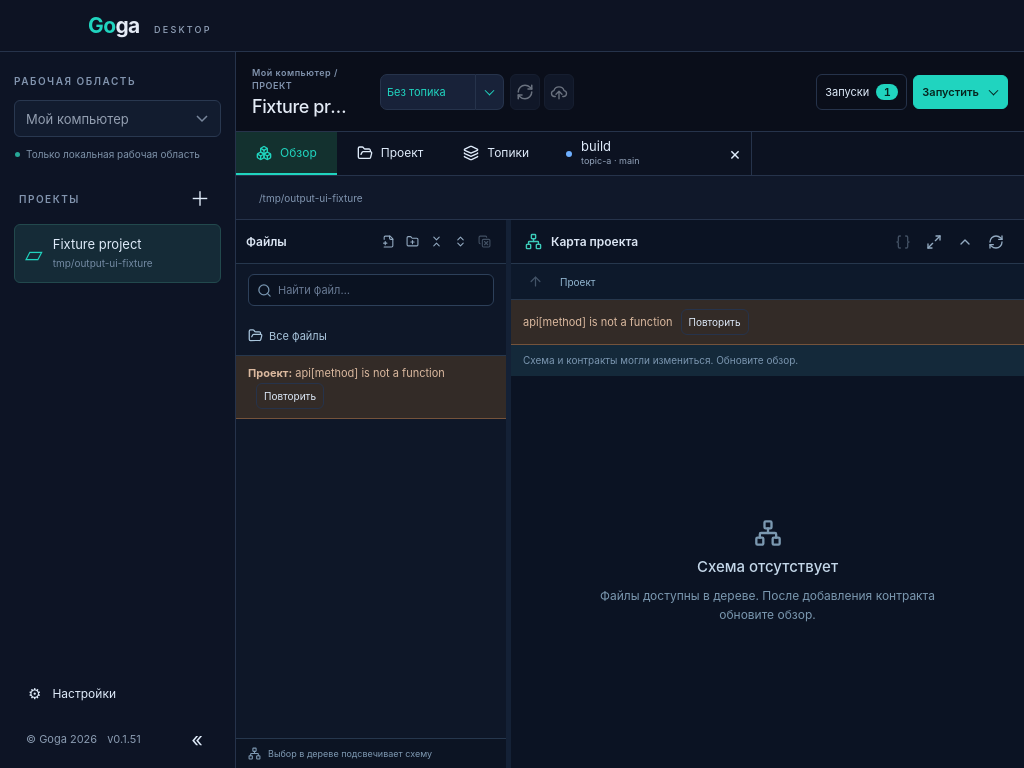
Test: shows real plain text output and live activity before browser opening, without timer or fake progress
Click the tab "build topic-a · main" at (634, 154), box [549,132,719,175]
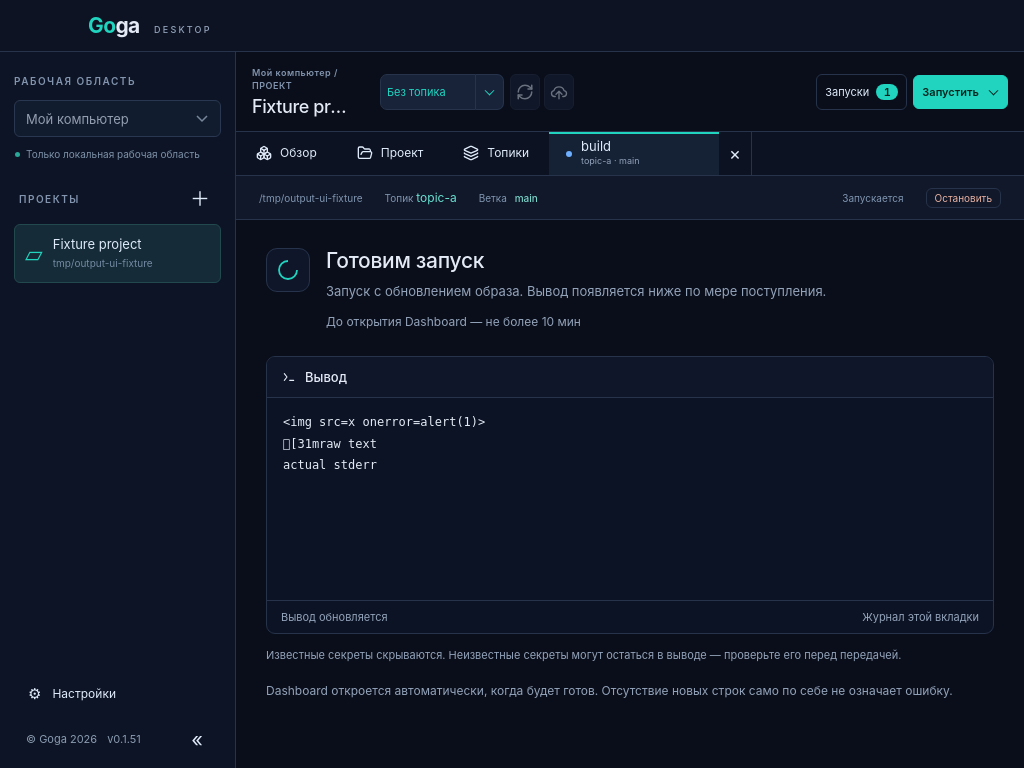
Check: the heading "Готовим запуск" is shown, box [326,248,484,273]
Check: the heading "Вывод" is shown, box [305,369,347,385]
Check: the text "Запуск с обновлением образа" is shown, box [326,283,826,299]
